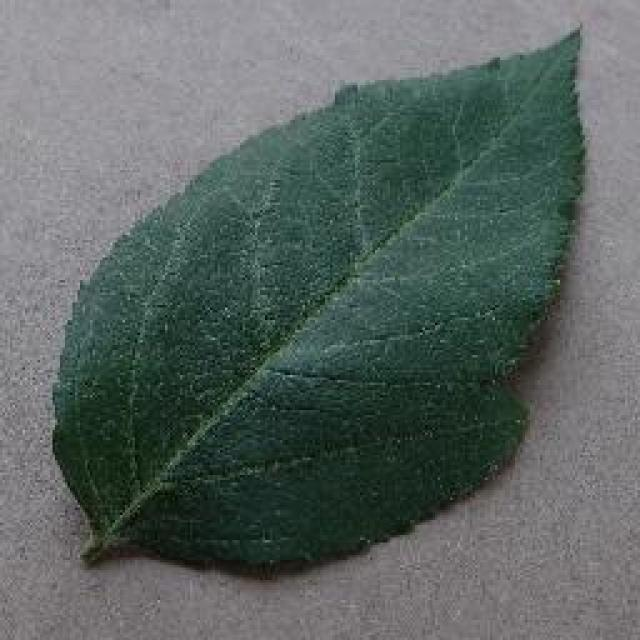apple healthy: (48, 20, 590, 572)
